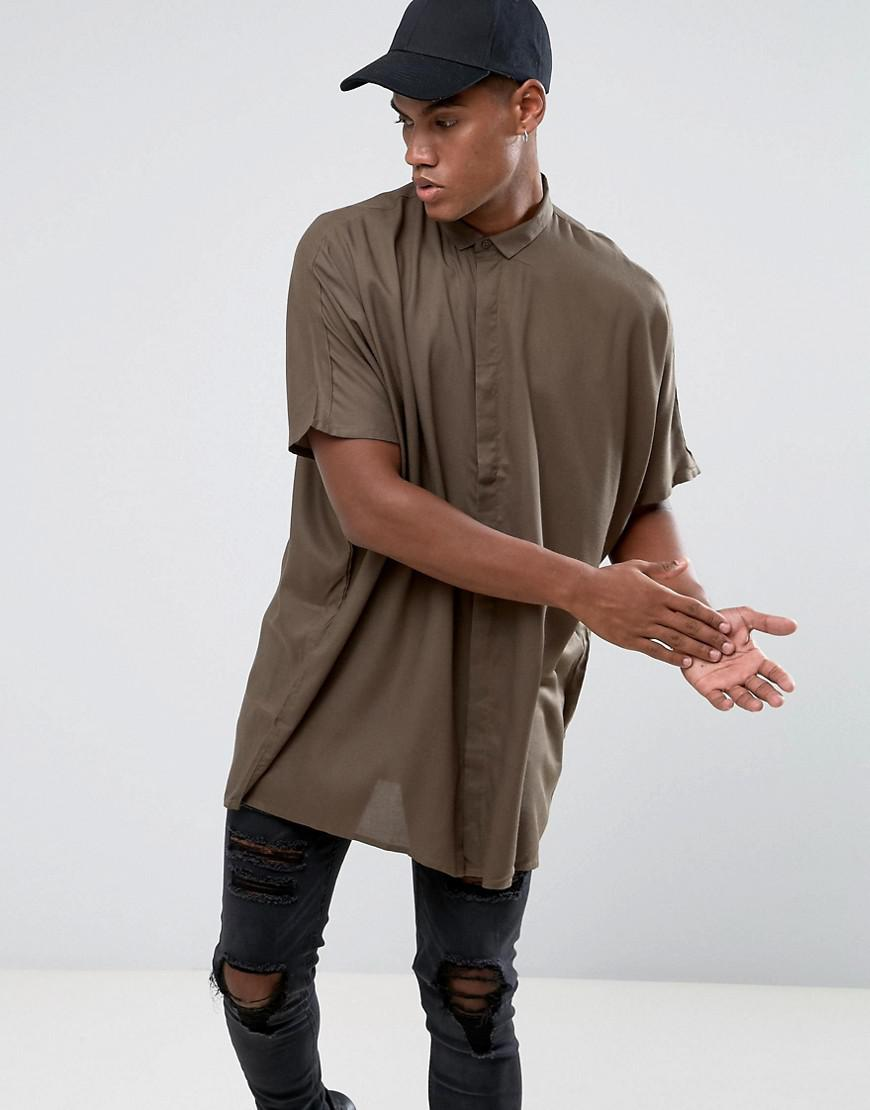teeshirt: (239, 178, 707, 910)
